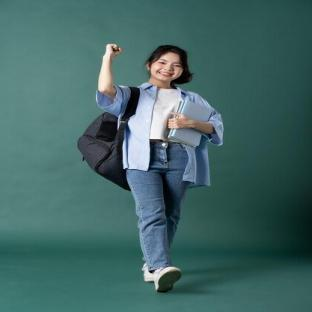Human: (122, 45, 224, 291), (97, 44, 131, 127)
